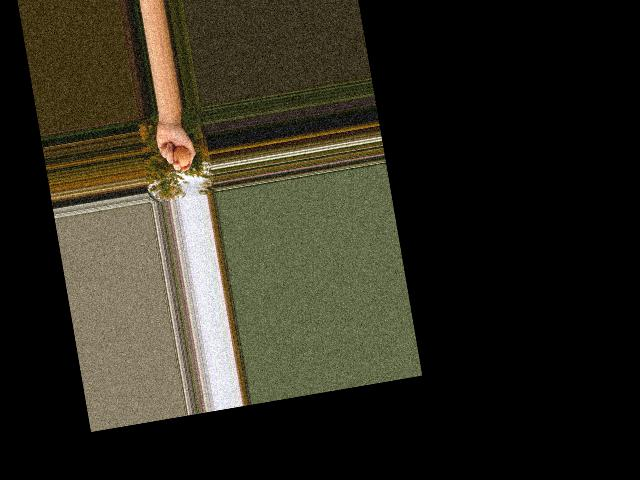egg: (171, 145, 191, 168)
